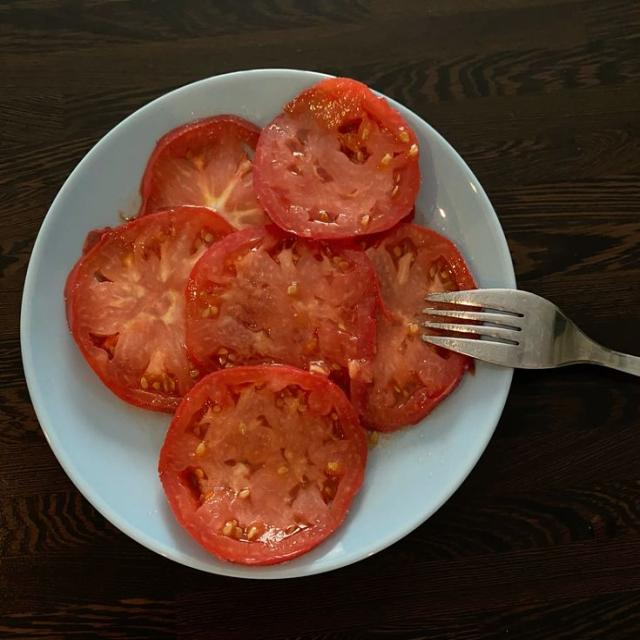sliced_tomato: (159, 366, 366, 565), (66, 208, 233, 412), (187, 226, 377, 387), (254, 78, 419, 238), (351, 224, 475, 430), (139, 116, 269, 228)
